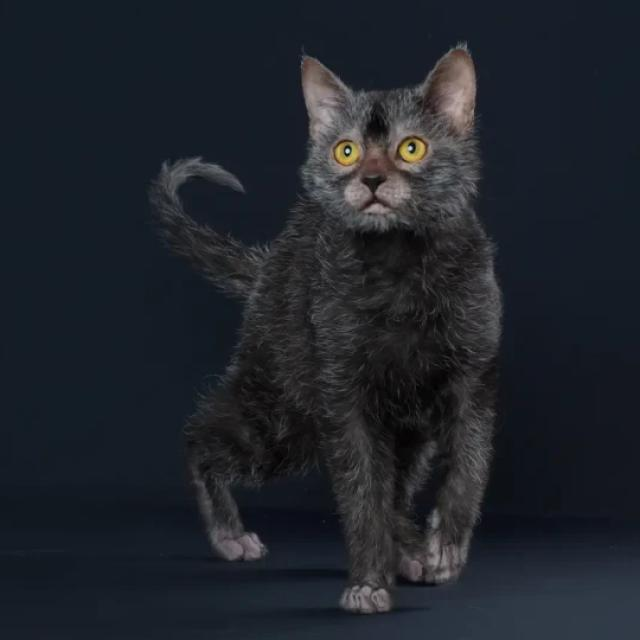Lykoi: (138, 34, 513, 622)
